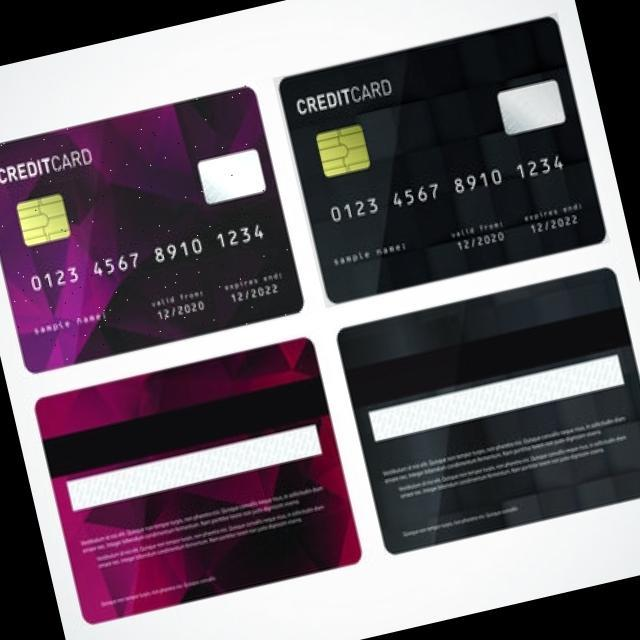payment_card: (34, 335, 362, 625), (279, 15, 608, 304), (335, 264, 640, 554), (1, 84, 306, 373)
